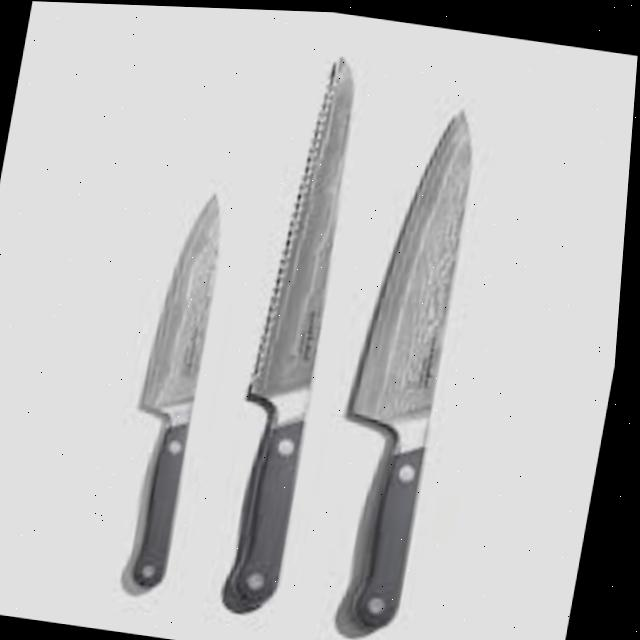knife: (316, 93, 493, 639), (219, 45, 376, 614), (113, 183, 239, 596)
